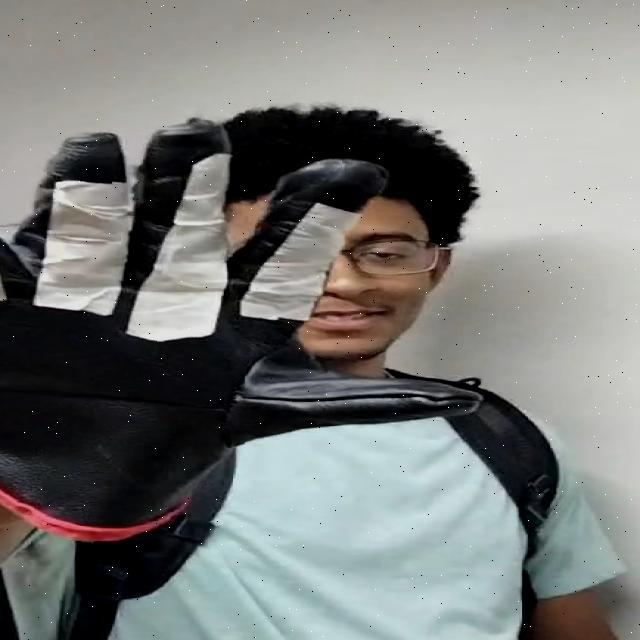Gloves: (0, 117, 442, 549)
